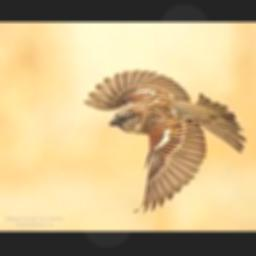Sparrow: (83, 70, 247, 213)
